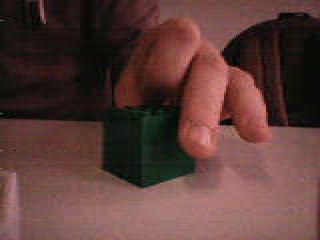legocube: (100, 103, 202, 188)
